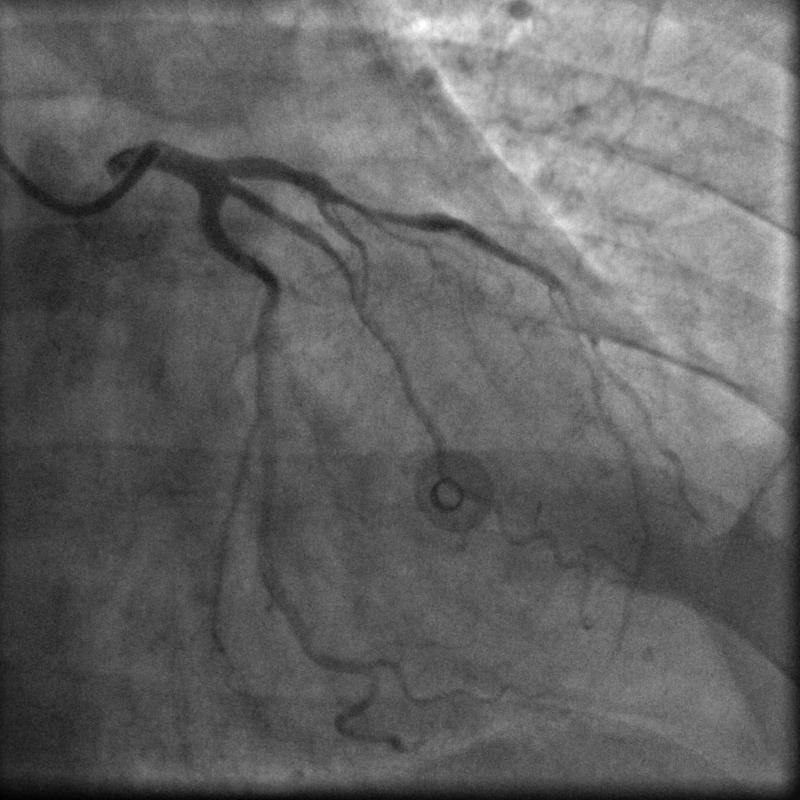Stenosis: (333, 189, 419, 233)
